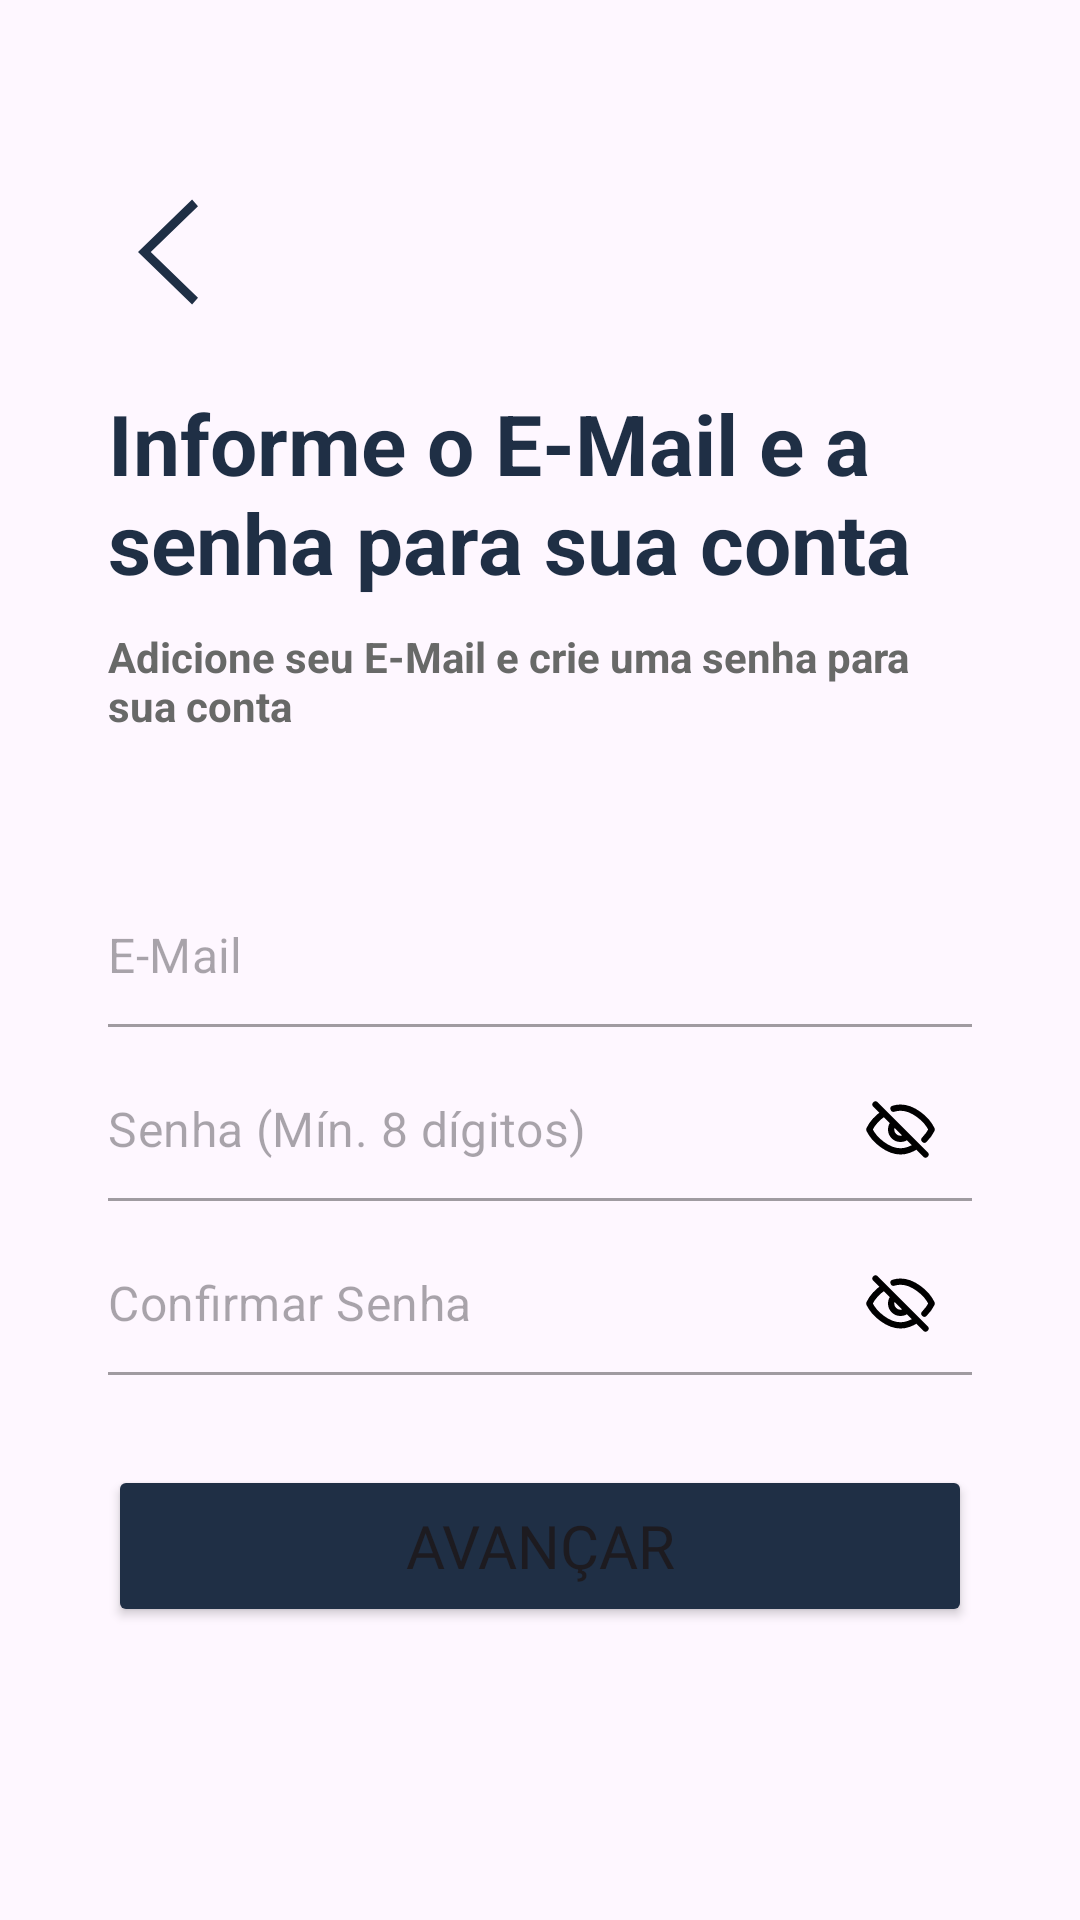

Icon bounding boxes for this 1080w x 1920h phone screenshot, format rect(x1, y1, x2, y2):
icseta esquerda: rect(138, 199, 198, 305)
